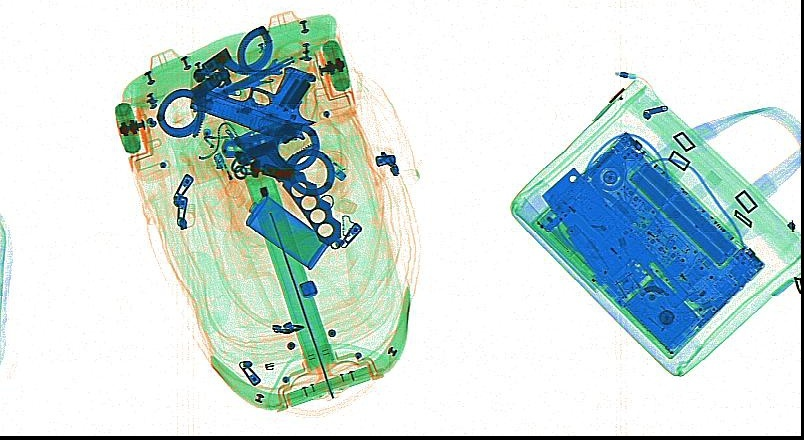handcuffs: (154, 25, 283, 140), (233, 122, 335, 196)
knife: (540, 167, 688, 309), (236, 139, 341, 248), (221, 119, 304, 160), (563, 225, 612, 284)
lighter: (300, 138, 348, 181)
scissors: (200, 39, 314, 104)
zippooil: (242, 194, 329, 270)
